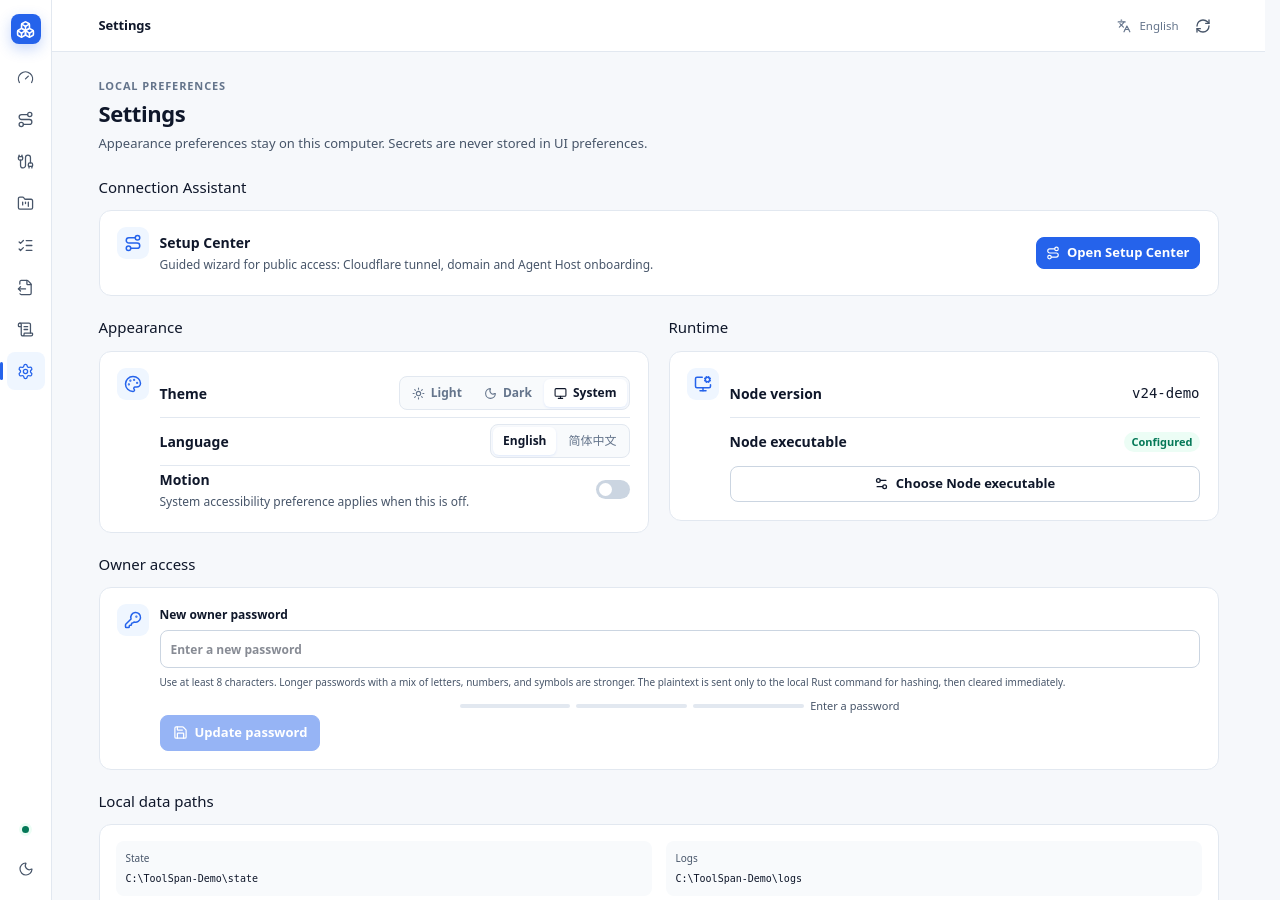
Scenario: ToolSpan desktop renderer › clears settings password state on cancel, submit, and navigation without persisting plaintext
In the password field labelled "New owner password": (680, 649) [160,630,1200,668], type "owner-password-local-only"
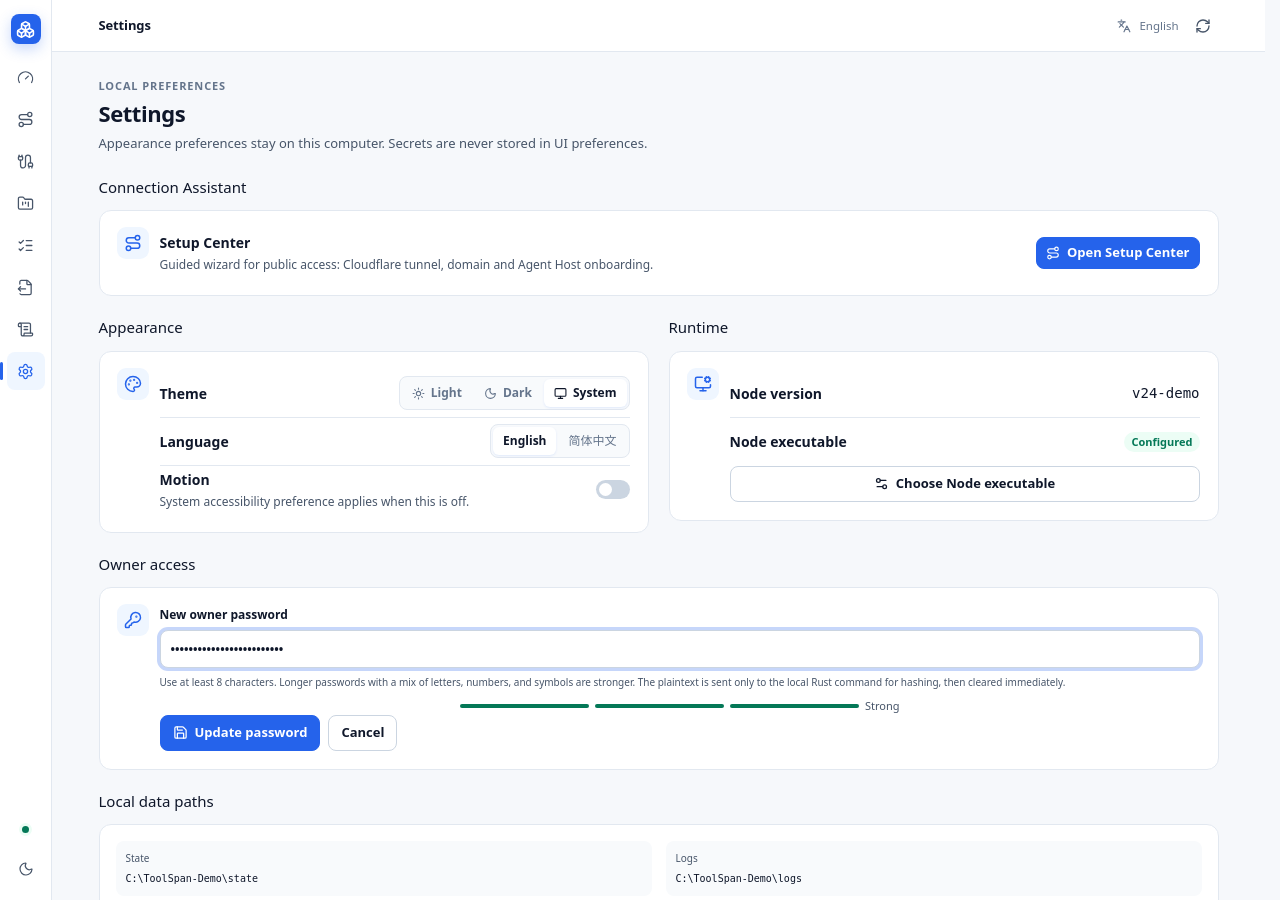
Click the button "Cancel": click(363, 733) [328,715,397,751]
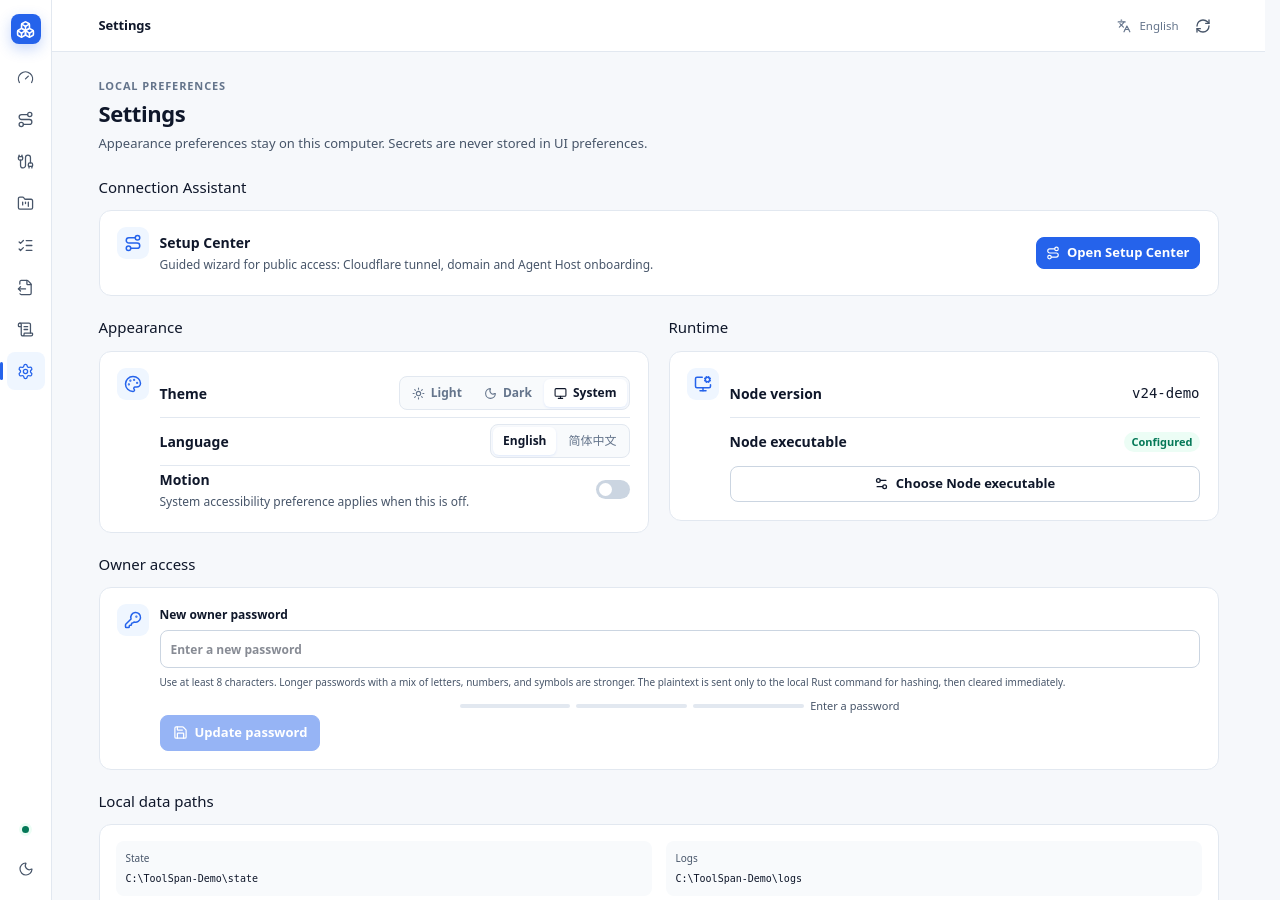
Now the password field labelled "New owner password" is empty
In the password field labelled "New owner password": (680, 649) [160,630,1200,668], type "owner-password-local-only"
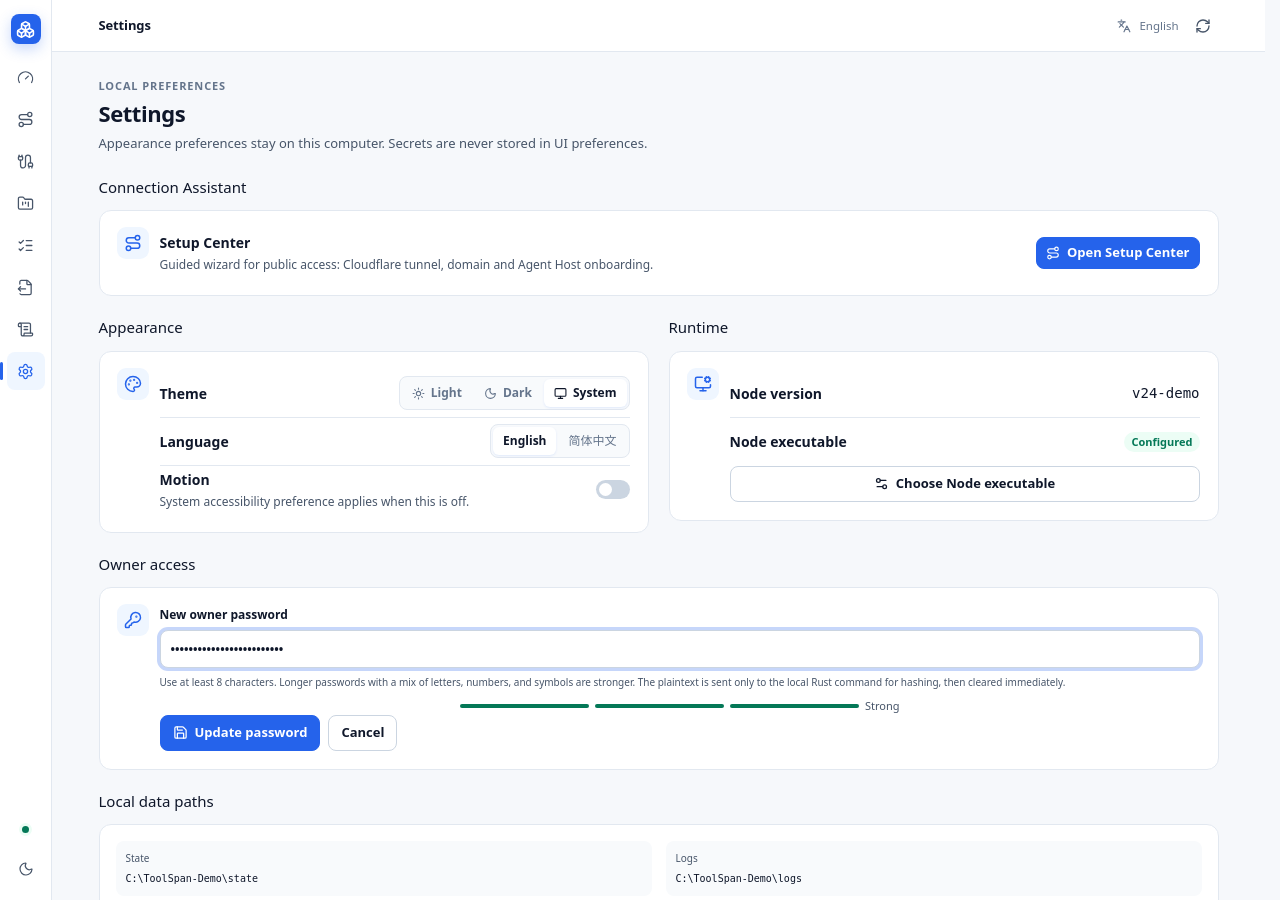
Click the button "Update password": click(240, 733) [160,715,320,751]
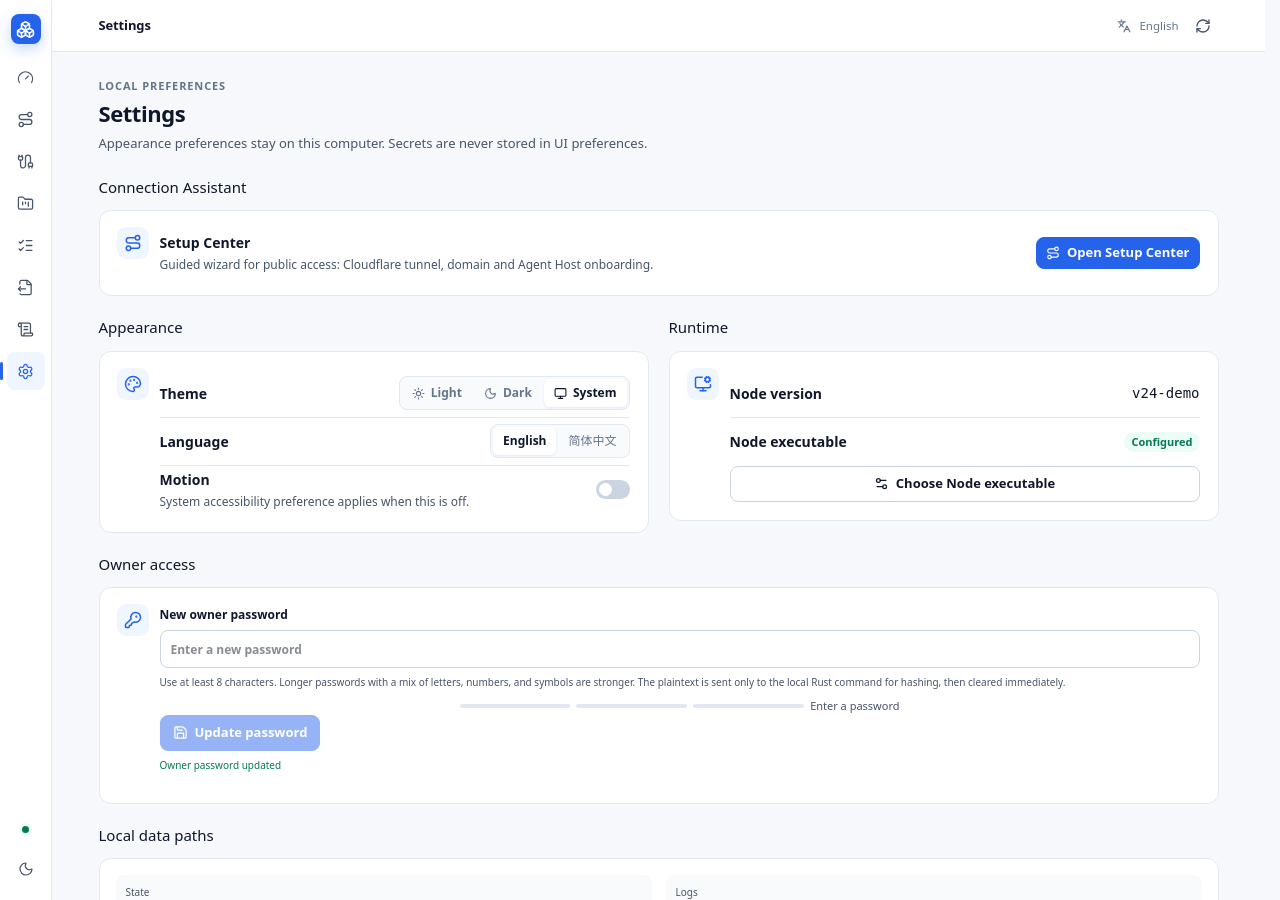
Now the text "Owner password updated" is shown, box [160,758,281,772]
Now the password field labelled "New owner password" is empty
In the password field labelled "New owner password": (680, 649) [160,630,1200,668], type "owner-password-local-only"
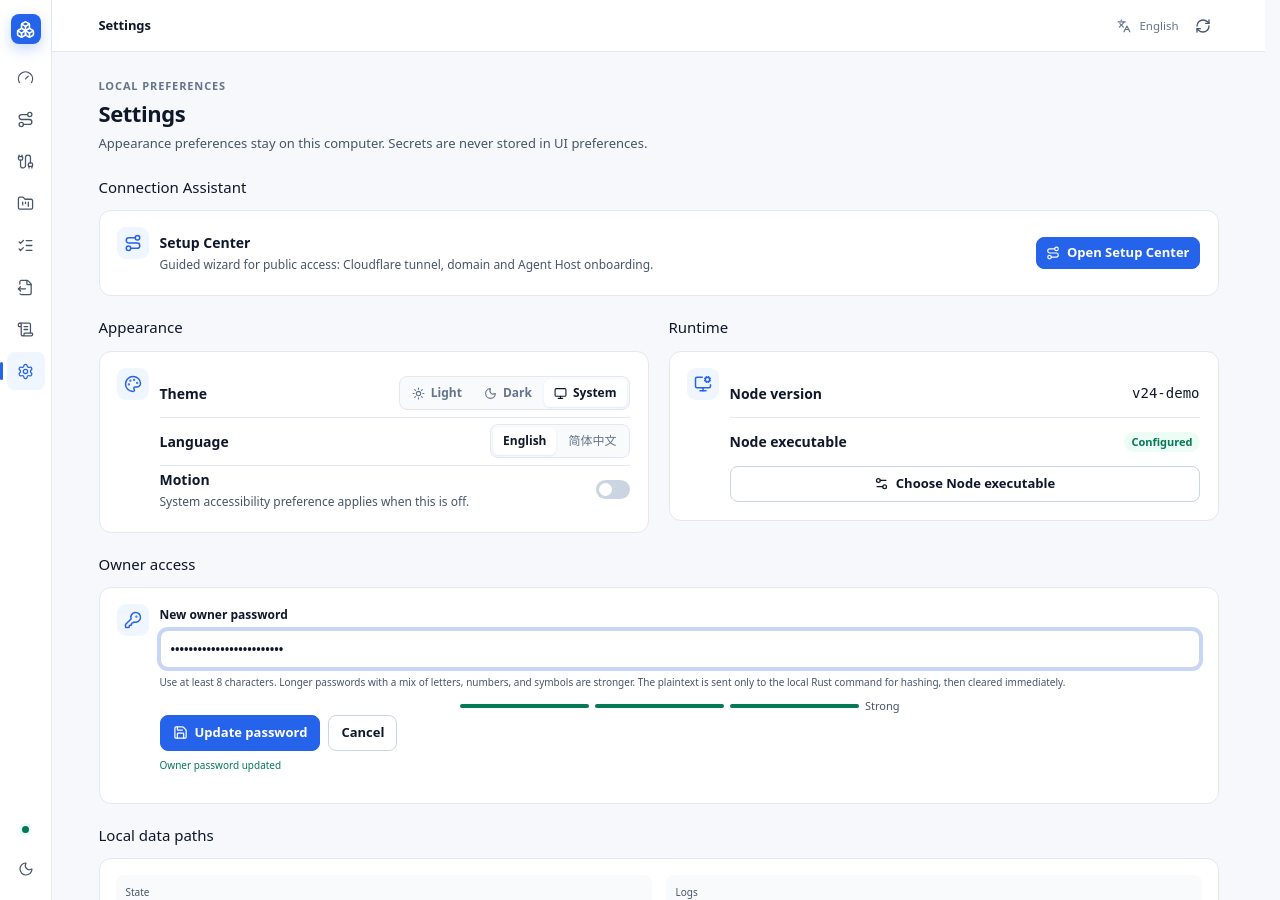
Click the 1st button named "Overview": click(26, 77) [6,58,44,96]
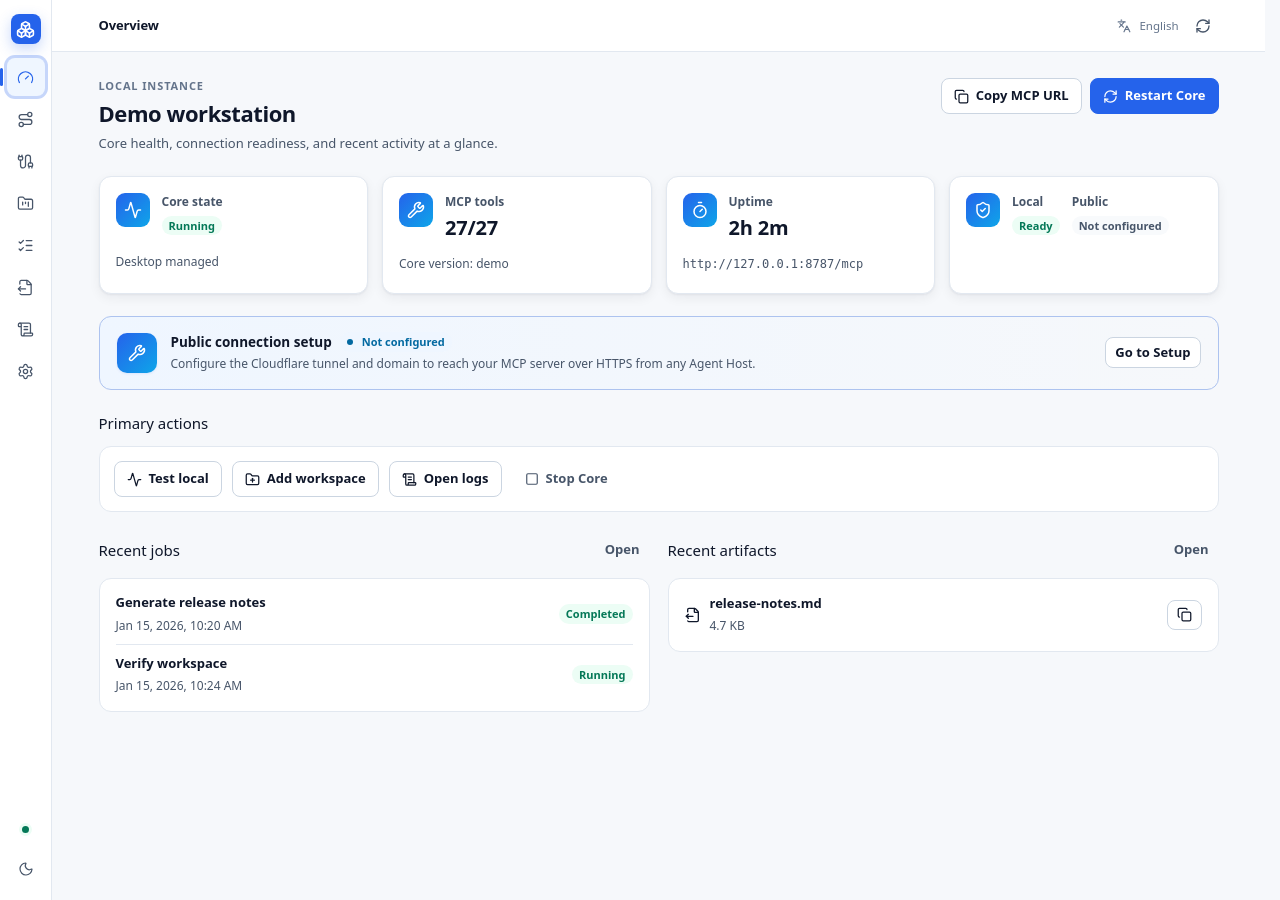
Now the text labelled "New owner password" is gone
